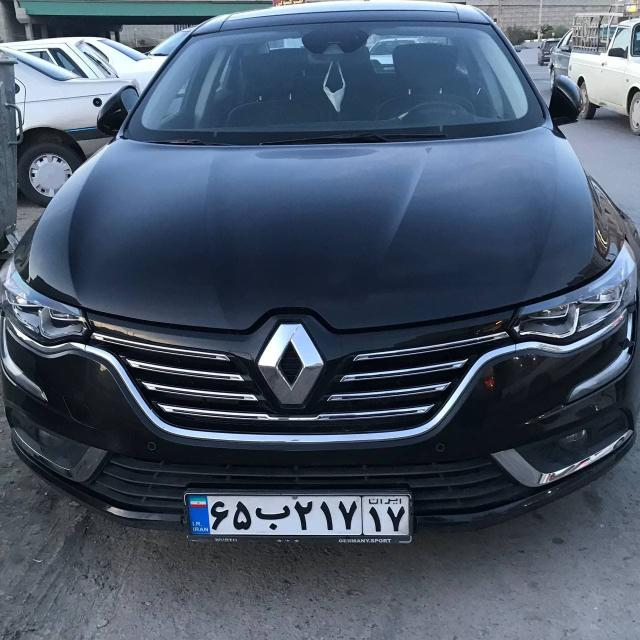Plates: (188, 495, 409, 535)
